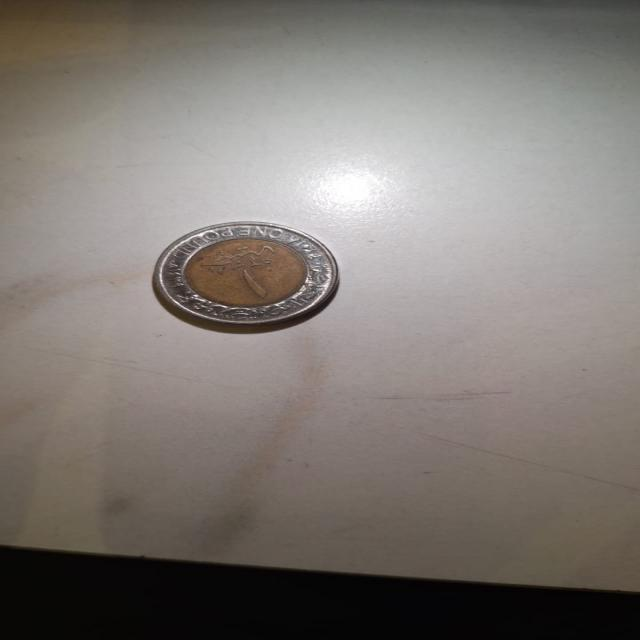One Pound: (141, 220, 354, 325)
